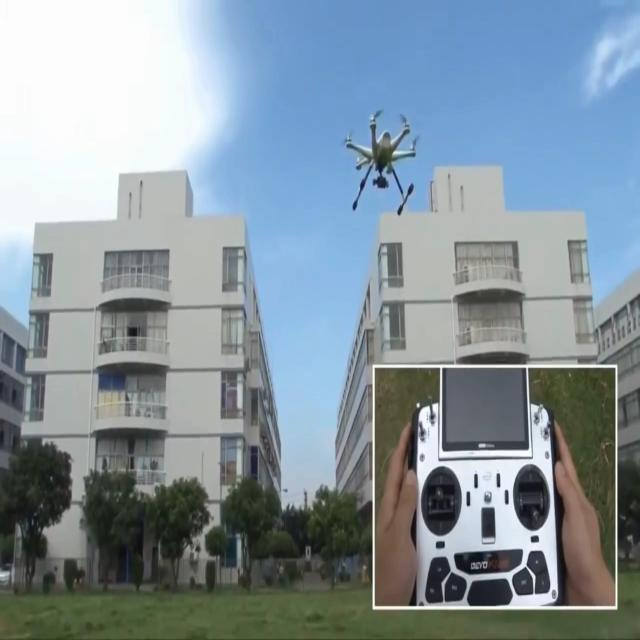drone: (343, 108, 419, 216)
